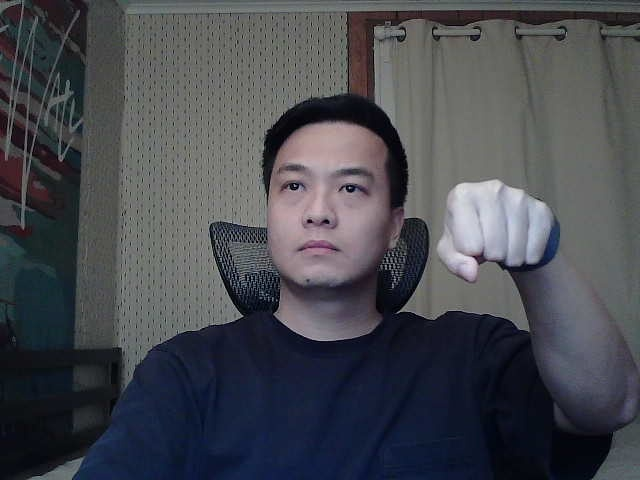Yes: (418, 150, 589, 302)
